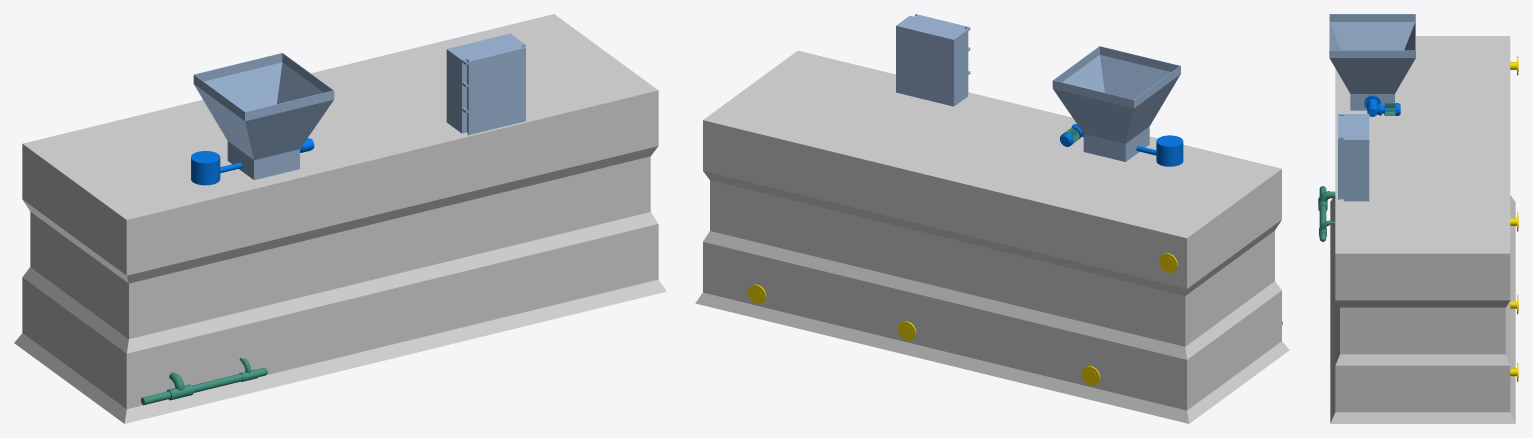
The model's file is pam-dosing-unit.gltf.
The picture shows the model from 3 angles, left to right: view 1: azimuth 30°, elevation 25°; view 2: azimuth 150°, elevation 25°; view 3: azimuth 270°, elevation 25°; orthographic projection. The views are drawn at different scales.
Parts seen in each view (by area): view 1: 拉伸 [216288], 拉伸 [216236], 拉伸 [216229], 拉伸 [216209], 连接的实心几何图形 [216607], 连接的实心几何图形 [216270], 连接的实心几何图形 [216271], 连接的实心几何图形 [216285], 拉伸 [216802], 拉伸 [216764], 拉伸 [216610], 拉伸 [216848] (+2 smaller); view 2: 拉伸 [216288], 拉伸 [216236], 拉伸 [216229], 拉伸 [216209], 连接的实心几何图形 [216607], 连接的实心几何图形 [216270], 连接的实心几何图形 [216271], 拉伸 [216764], 连接的实心几何图形 [216285], 拉伸 [216610], 拉伸 [216848], 拉伸 [216586]; view 3: 拉伸 [216288], 拉伸 [216236], 拉伸 [216209], 拉伸 [216229], 连接的实心几何图形 [216607], 连接的实心几何图形 [216270], 连接的实心几何图形 [216271], 拉伸 [216764], 连接的实心几何图形 [216285], 拉伸 [216848], 拉伸 [216610], 拉伸 [216871].
Boxes of the visible parts, left/top/right/bottom form: 拉伸 [216288]: left=23, top=14, right=657, bottom=219; 拉伸 [216236]: left=22, top=14, right=658, bottom=275; 拉伸 [216229]: left=30, top=156, right=650, bottom=338; 拉伸 [216209]: left=22, top=224, right=658, bottom=408; 连接的实心几何图形 [216607]: left=193, top=53, right=334, bottom=160; 连接的实心几何图形 [216270]: left=14, top=279, right=666, bottom=423; 连接的实心几何图形 [216271]: left=22, top=212, right=658, bottom=353; 连接的实心几何图形 [216285]: left=23, top=146, right=658, bottom=283; 拉伸 [216802]: left=467, top=47, right=525, bottom=135; 拉伸 [216764]: left=446, top=33, right=525, bottom=133; 拉伸 [216610]: left=227, top=141, right=299, bottom=180; 拉伸 [216848]: left=447, top=34, right=524, bottom=60; 拉伸 [216288]: left=704, top=51, right=1280, bottom=237; 拉伸 [216236]: left=703, top=50, right=1281, bottom=288; 拉伸 [216229]: left=710, top=180, right=1274, bottom=346; 拉伸 [216209]: left=703, top=242, right=1281, bottom=410; 连接的实心几何图形 [216607]: left=1052, top=46, right=1180, bottom=143; 连接的实心几何图形 [216270]: left=695, top=292, right=1289, bottom=423; 连接的实心几何图形 [216271]: left=703, top=231, right=1281, bottom=359; 拉伸 [216764]: left=896, top=15, right=967, bottom=106; 连接的实心几何图形 [216285]: left=703, top=171, right=1281, bottom=295; 拉伸 [216610]: left=1083, top=126, right=1149, bottom=161; 拉伸 [216848]: left=897, top=15, right=966, bottom=39; 拉伸 [216586]: left=1156, top=135, right=1183, bottom=166; 拉伸 [216288]: left=1335, top=36, right=1509, bottom=253; 拉伸 [216236]: left=1335, top=36, right=1510, bottom=300; 拉伸 [216209]: left=1335, top=365, right=1510, bottom=412; 拉伸 [216229]: left=1340, top=307, right=1505, bottom=354; 连接的实心几何图形 [216607]: left=1329, top=14, right=1415, bottom=93; 连接的实心几何图形 [216270]: left=1330, top=195, right=1515, bottom=423; 连接的实心几何图形 [216271]: left=1335, top=301, right=1510, bottom=365; 拉伸 [216764]: left=1339, top=114, right=1369, bottom=201; 连接的实心几何图形 [216285]: left=1335, top=300, right=1510, bottom=307; 拉伸 [216848]: left=1339, top=114, right=1368, bottom=139; 拉伸 [216610]: left=1350, top=94, right=1394, bottom=110; 拉伸 [216871]: left=1319, top=186, right=1326, bottom=237.
Bounding box in the file's own units: 5.1 × 2.54 × 1.94.
